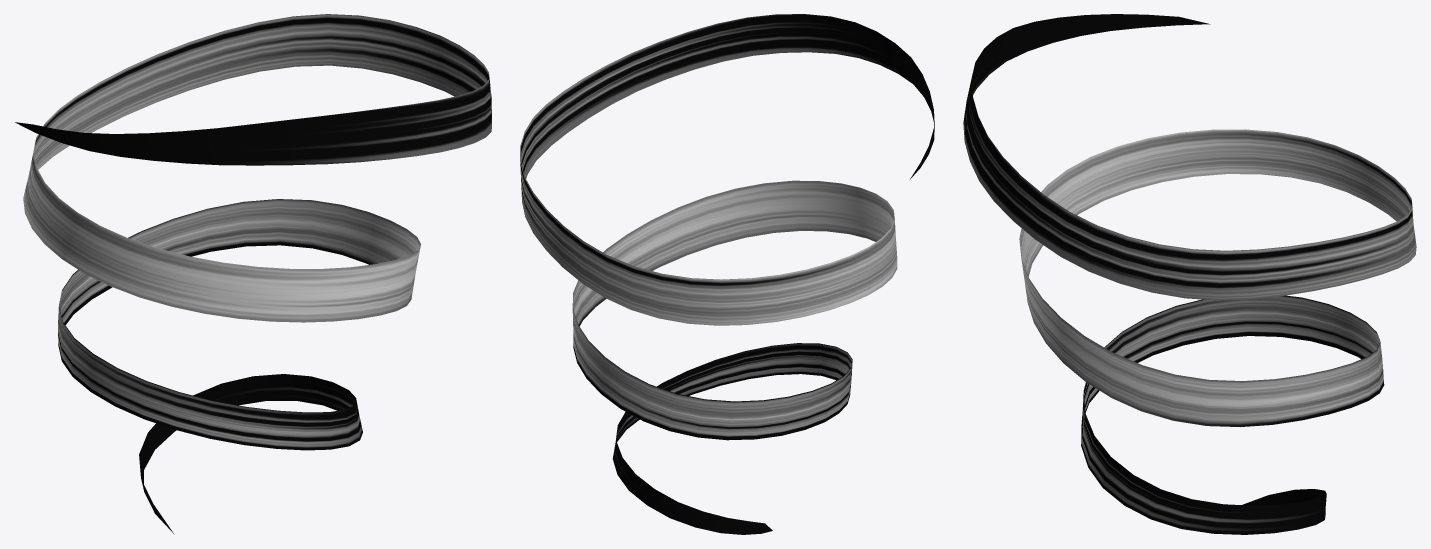
File: TwistWindR.fbx
3 views of the same model, side by side, from view 1: azimuth 30°, elevation 25°; view 2: azimuth 150°, elevation 25°; view 3: azimuth 270°, elevation 25° (orthographic). The views are drawn at different scales.
Visible parts, largest first — view 1: SM_e_Skl_Wa_6Nej_TwistWind001R.001; view 2: SM_e_Skl_Wa_6Nej_TwistWind001R.001; view 3: SM_e_Skl_Wa_6Nej_TwistWind001R.001.
Part boxes in pixels (bbox=[...]): SM_e_Skl_Wa_6Nej_TwistWind001R.001: bbox=[15, 14, 491, 534]; SM_e_Skl_Wa_6Nej_TwistWind001R.001: bbox=[520, 14, 934, 534]; SM_e_Skl_Wa_6Nej_TwistWind001R.001: bbox=[963, 14, 1416, 534].
Size of the model in its own units: 95.06 by 105 by 89.67.
Materials: 1 (1 with a texture image).
